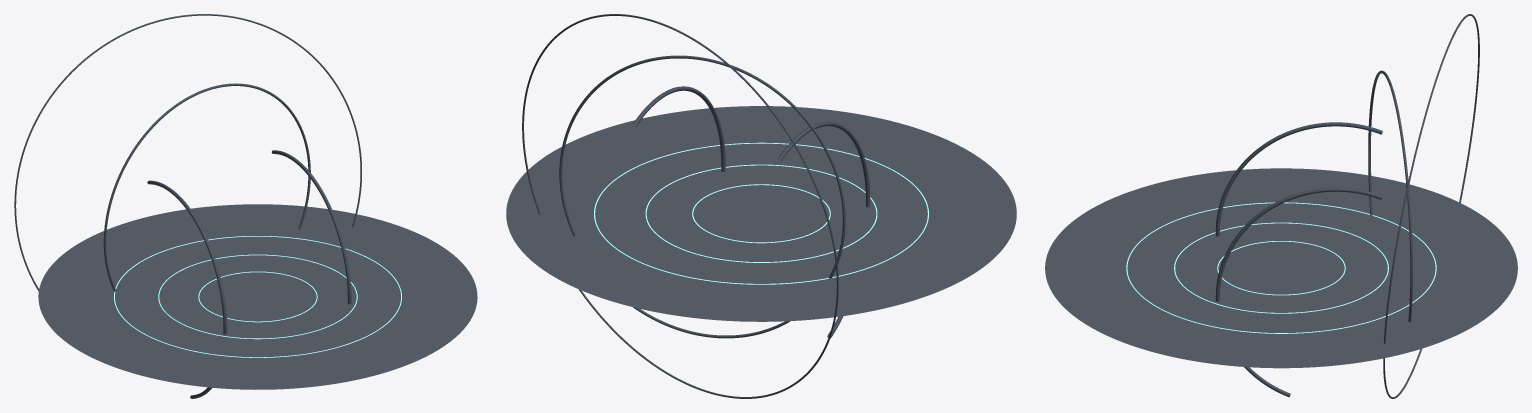
The model's file is motion_observatory.glb.
The picture shows the model from 3 angles, left to right: view 1: azimuth 30°, elevation 25°; view 2: azimuth 150°, elevation 25°; view 3: azimuth 270°, elevation 25°; orthographic projection. The views are drawn at different scales.
Parts seen in each view (by area): view 1: Floor, DistantRings, FloorRings, Arches; view 2: Floor, DistantRings, FloorRings, Arches; view 3: Floor, DistantRings, Arches, FloorRings.
Boxes of the visible parts, box(x1,y1,x2,y2) form: Floor: box(38, 204, 477, 389); DistantRings: box(14, 14, 361, 291); FloorRings: box(114, 236, 401, 357); Arches: box(147, 150, 351, 398); Floor: box(506, 106, 1016, 321); DistantRings: box(522, 14, 845, 398); FloorRings: box(594, 142, 928, 284); Arches: box(633, 86, 870, 338); Floor: box(1045, 168, 1517, 368); DistantRings: box(1368, 14, 1479, 398); Arches: box(1215, 122, 1382, 397); FloorRings: box(1126, 202, 1436, 333).
Size of the model in its own units: 10.4 by 8.58 by 10.4.
